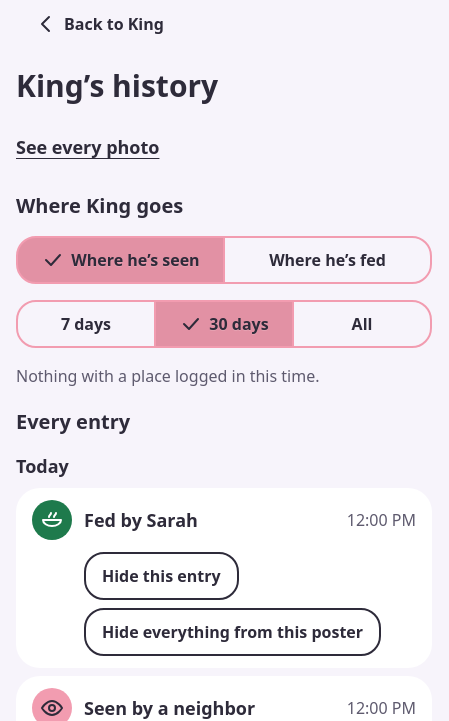
Test case: HistoryPage — hiding, for admins › says so when hiding fails, keeping the entry
Click the button "Hide this entry" below "Fed by Sarah" at (161, 576), box [84,552,239,600]
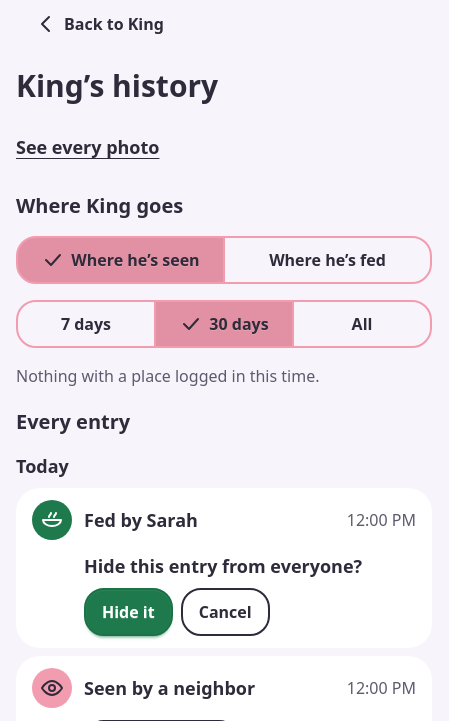
Click the button "Hide it" at (128, 612), box [84,588,173,636]
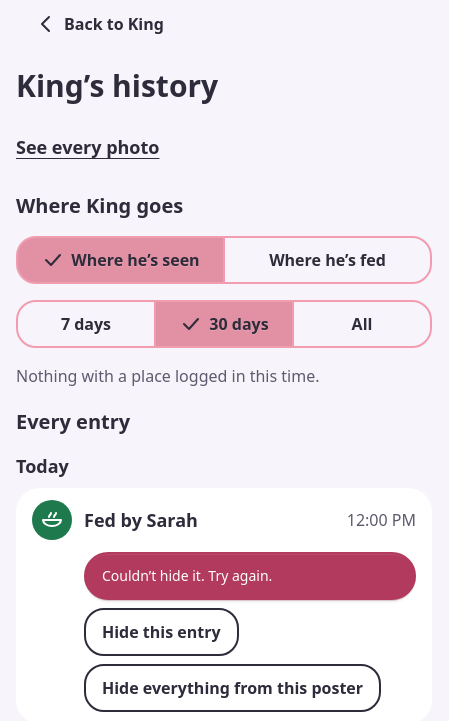
Check: the message reads "Couldn’t hide it. Try again.", box [102,566,272,585]
